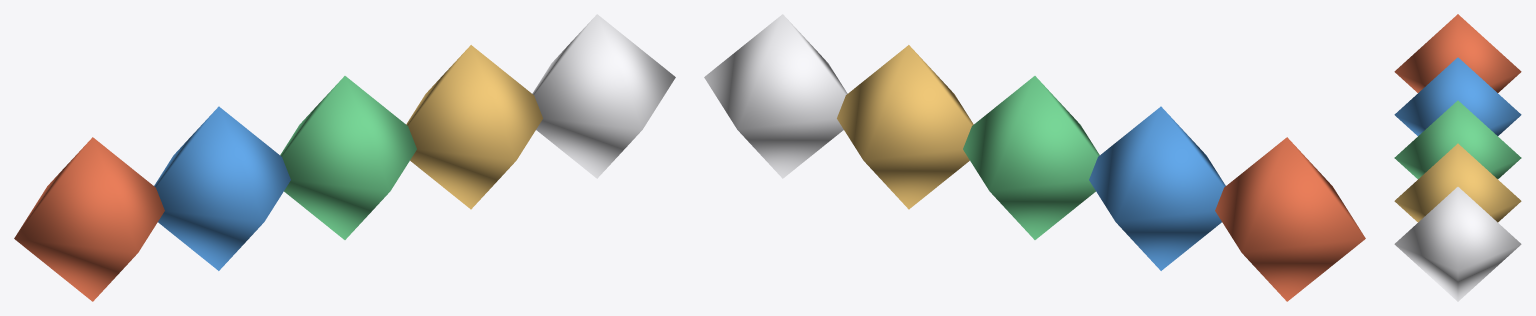
File: pbr_material_test.gltf
The picture shows the model from 3 angles, left to right: view 1: azimuth 30°, elevation 25°; view 2: azimuth 150°, elevation 25°; view 3: azimuth 270°, elevation 25°; orthographic projection. The views are drawn at different scales.
Visible parts, largest first — view 1: DielectricRough, MetalSmooth, DielectricSmooth, Balanced, MetalRough; view 2: DielectricRough, MetalSmooth, DielectricSmooth, Balanced, MetalRough; view 3: MetalSmooth, Balanced, MetalRough, DielectricRough, DielectricSmooth.
Part boxes in pixels (x1=…): DielectricRough: x1=14, y1=137, x2=164, y2=301; MetalSmooth: x1=532, y1=14, x2=675, y2=178; DielectricSmooth: x1=154, y1=106, x2=290, y2=270; Balanced: x1=280, y1=76, x2=416, y2=239; MetalRough: x1=406, y1=45, x2=542, y2=209; DielectricRough: x1=1215, y1=137, x2=1365, y2=301; MetalSmooth: x1=704, y1=14, x2=847, y2=178; DielectricSmooth: x1=1089, y1=106, x2=1225, y2=270; Balanced: x1=963, y1=76, x2=1099, y2=239; MetalRough: x1=837, y1=45, x2=973, y2=209; MetalSmooth: x1=1394, y1=187, x2=1521, y2=301; Balanced: x1=1394, y1=100, x2=1521, y2=178; MetalRough: x1=1394, y1=143, x2=1521, y2=222; DielectricRough: x1=1394, y1=14, x2=1521, y2=92; DielectricSmooth: x1=1394, y1=57, x2=1521, y2=135.
Bounding box in the file's own units: 8.4 × 2 × 2.
